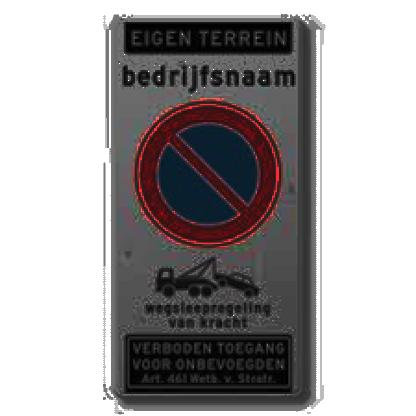No parking: (127, 100, 284, 247)
